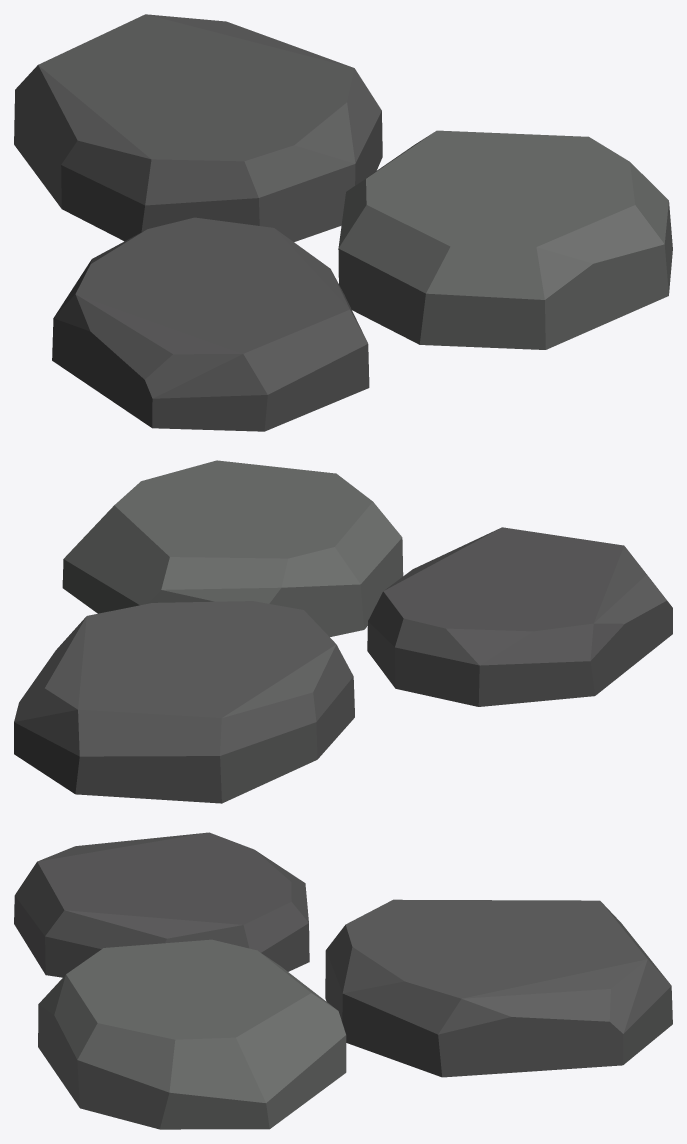
Rendered from Stone 1.fbx.
3 renders of one model, top to bottom at view 1: azimuth 30°, elevation 25°; view 2: azimuth 150°, elevation 25°; view 3: azimuth 270°, elevation 25°, orthographic. The views are drawn at different scales.
Visible parts, largest first — view 1: Stone 1; view 2: Stone 1; view 3: Stone 1.
Boxes of the visible parts, bbox=[...] form: Stone 1: bbox=[14, 14, 672, 431]; Stone 1: bbox=[14, 460, 672, 803]; Stone 1: bbox=[14, 832, 672, 1129].
Size of the model in its own units: 202 by 29.58 by 233.
